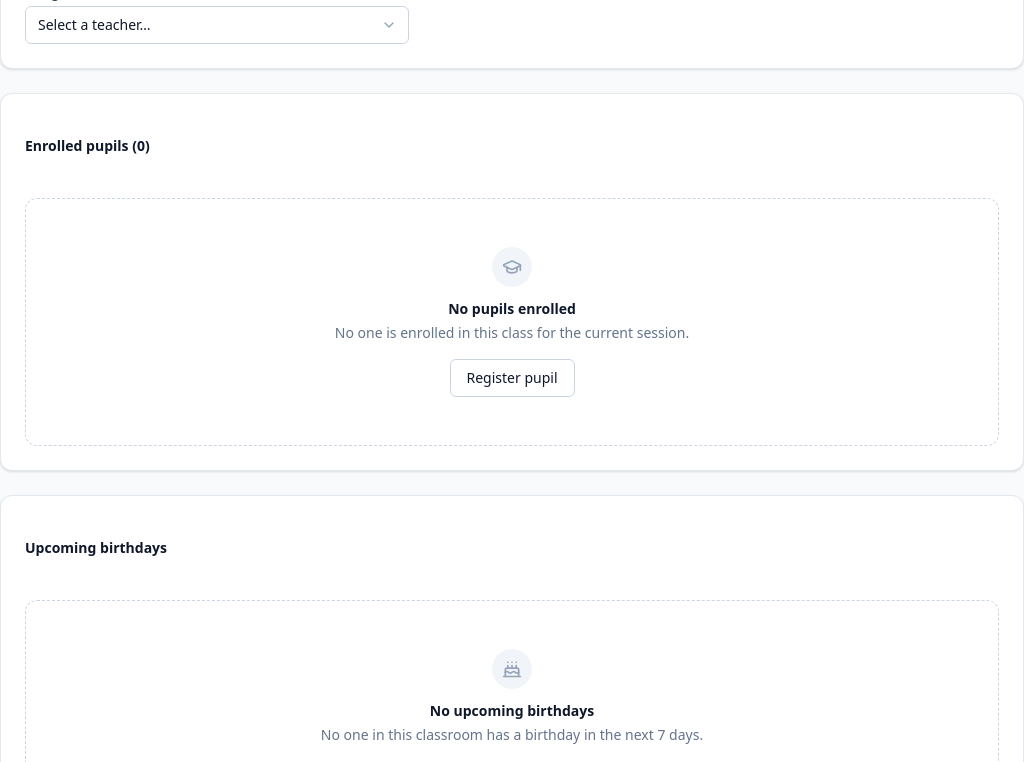
Test: ClassDetailPage - enrolled students roster › renders an empty roster with a Register-student action for an admin
(page scrolled)
Expected: the heading "No pupils enrolled" is shown, [448,299,576,319]
Click the button "Register pupil" at x=512, y=378, box [450,359,574,397]
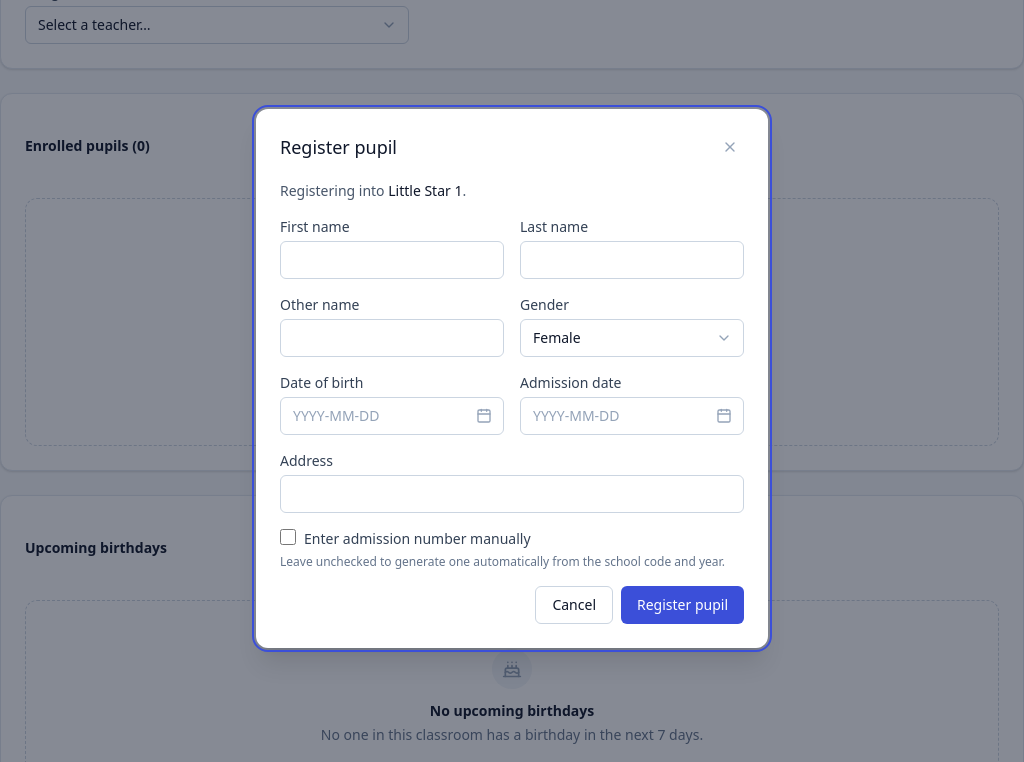
Result: the text "Little Star 1" is shown at [388,180,462,200]
